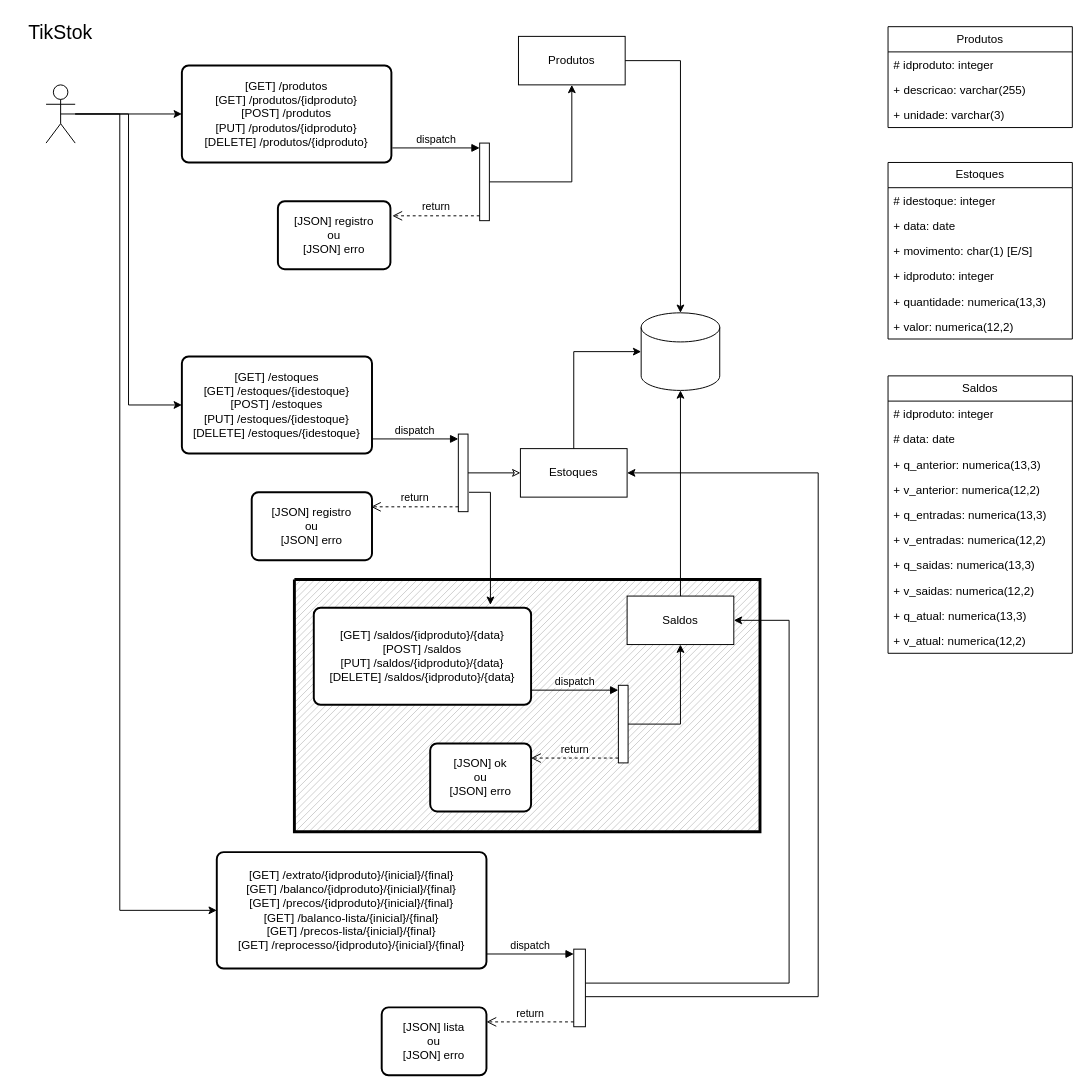
Some shapes in this 1089 by 1092 pixel diagram are drawn without their labels. Each missing label, with the centre of its shape:
PostgreSQL: point 680,351
Usuário: point 60,113
